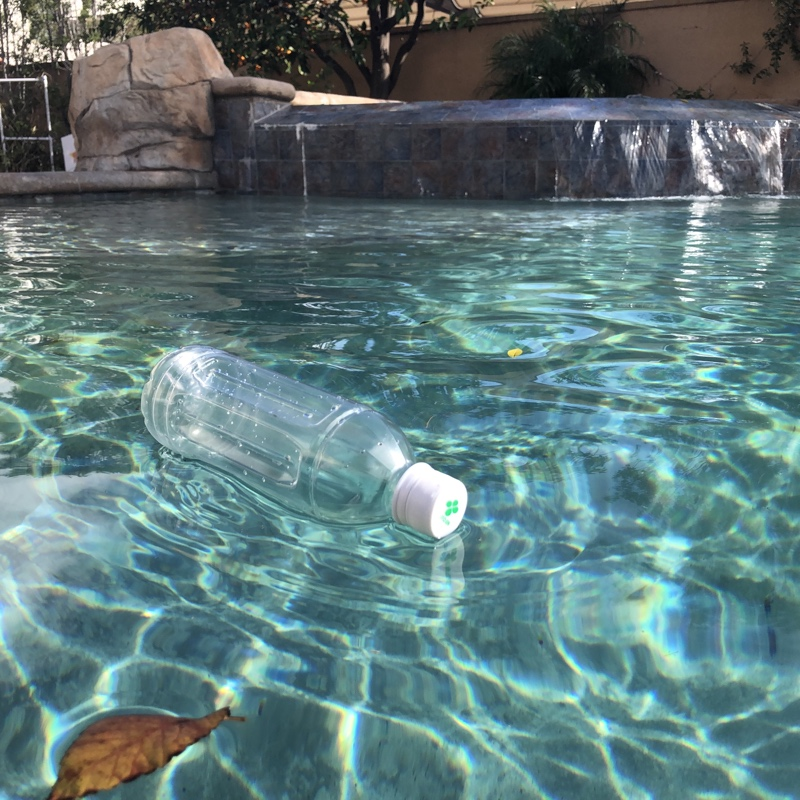Plastic Bottle: (135, 342, 469, 545)
